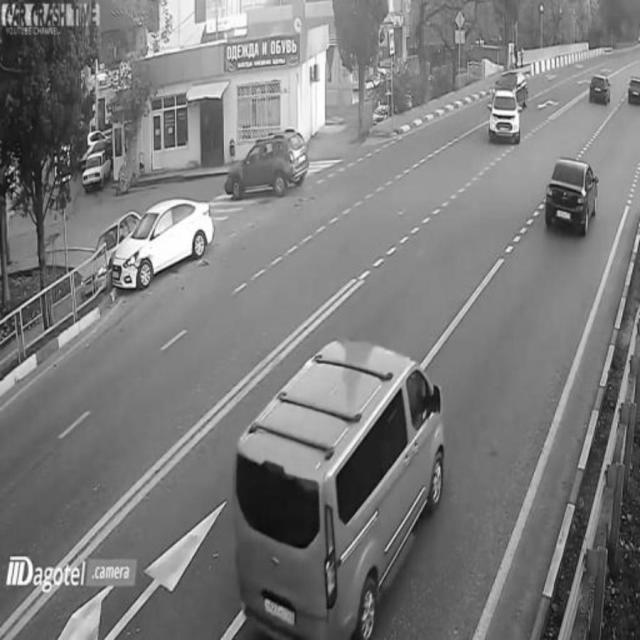accident: (79, 199, 205, 291)
vehicle: (236, 329, 444, 639), (222, 133, 310, 203), (547, 153, 601, 233), (486, 83, 521, 147), (77, 144, 113, 191), (586, 70, 613, 112), (624, 65, 640, 116)
